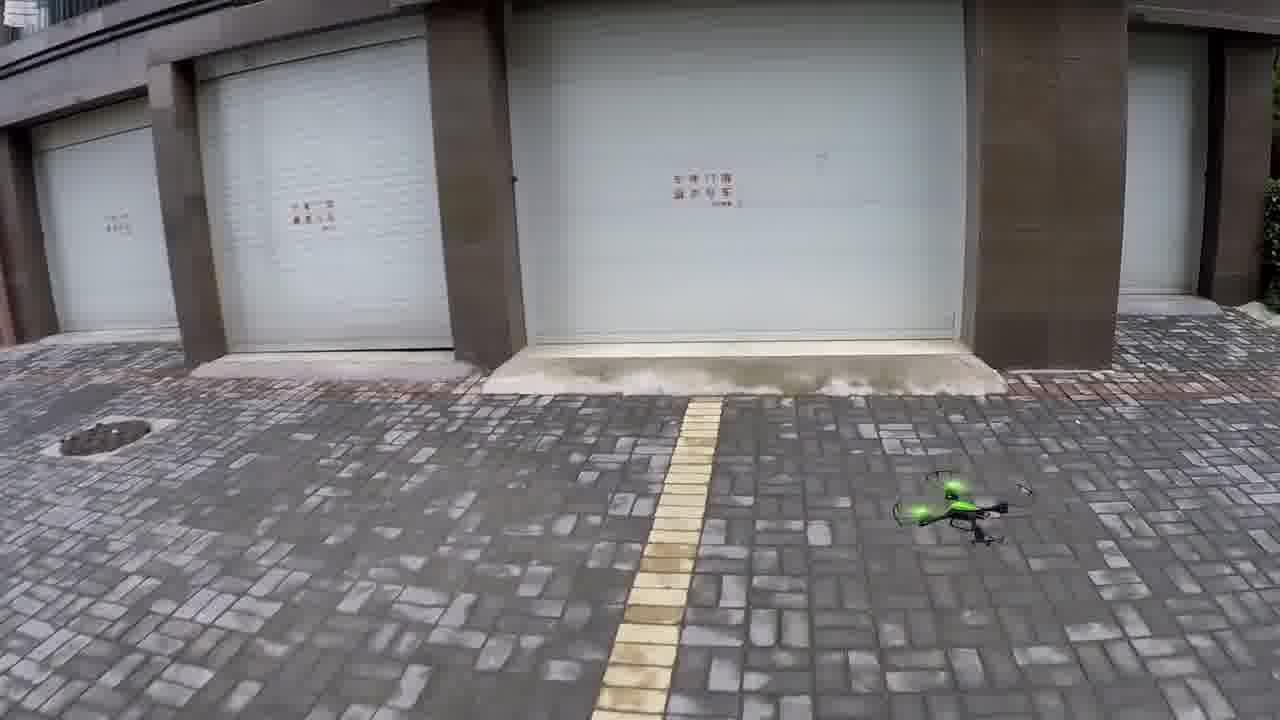drone: (887, 472, 1050, 560)
